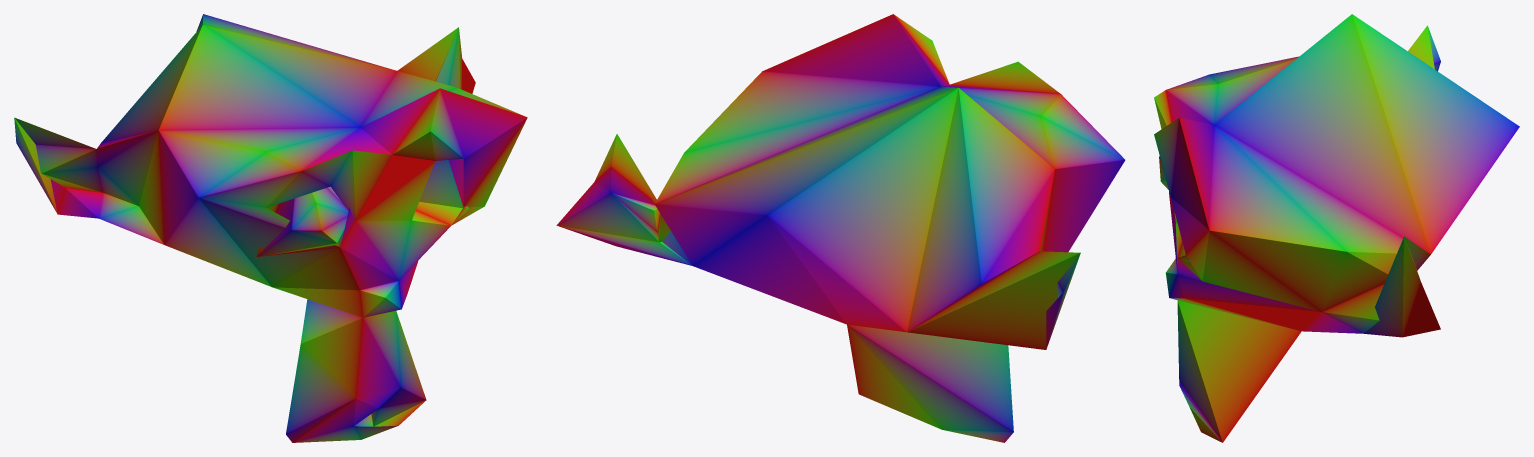
Rendered from after_decimating_reconquest_0.obj.
The picture shows the model from 3 angles, left to right: view 1: azimuth 30°, elevation 25°; view 2: azimuth 150°, elevation 25°; view 3: azimuth 270°, elevation 25°; orthographic projection. The views are drawn at different scales.
Size of the model in its own units: 2.45 by 1.91 by 1.7.
